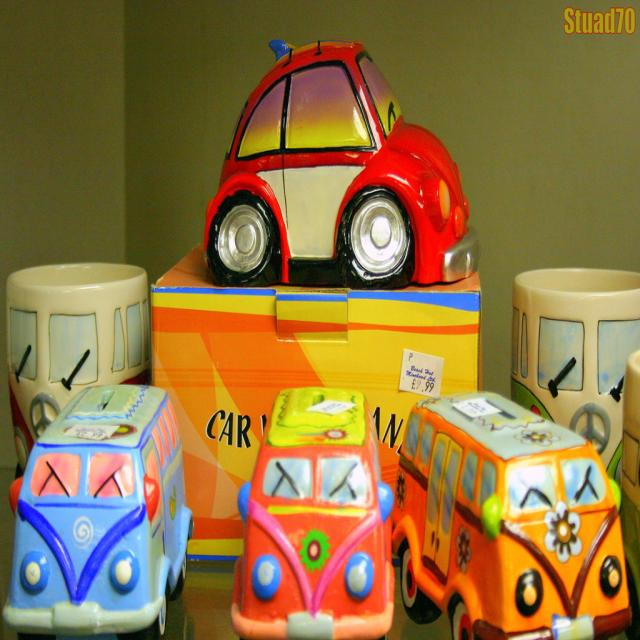car: (202, 32, 480, 289)
